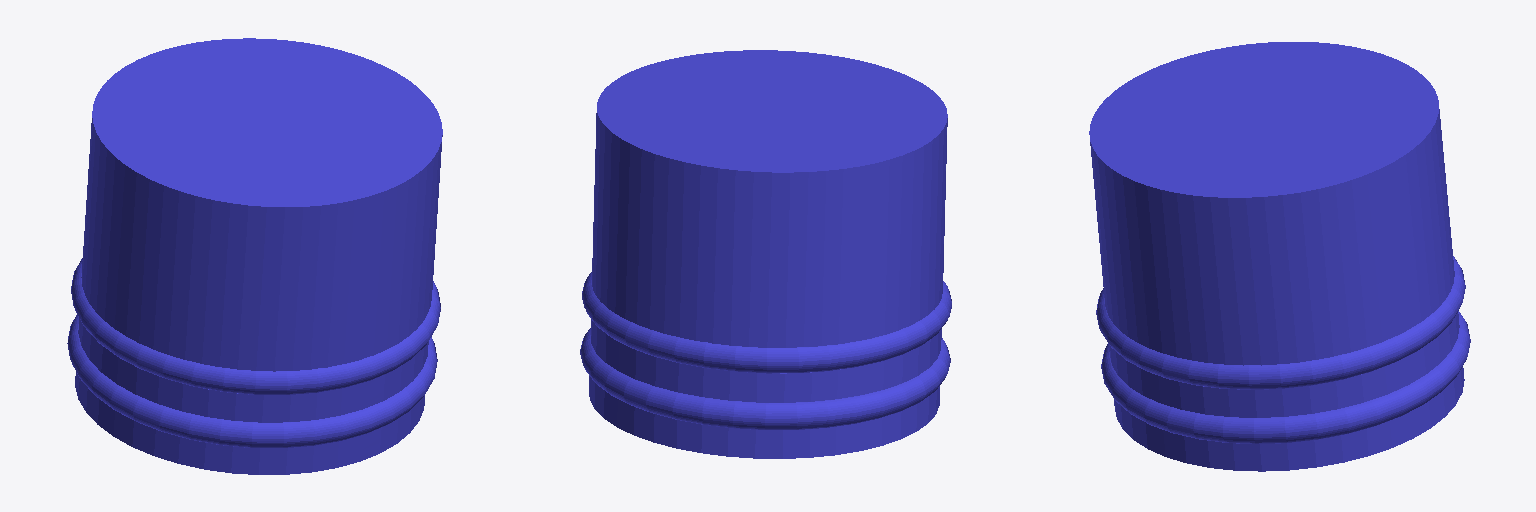
Rendered from bombilla207.obj.
3 views of the same model, side by side, from view 1: azimuth 30°, elevation 25°; view 2: azimuth 150°, elevation 25°; view 3: azimuth 270°, elevation 25° (orthographic).
Parts seen in each view (by area): view 1: Cylinder001, Cylinder004, Cylinder002, Cylinder003, Cylinder006; view 2: Cylinder001, Cylinder004, Cylinder003, Cylinder006, Cylinder002; view 3: Cylinder001, Cylinder004, Cylinder003, Cylinder002, Cylinder006.
Boxes of the visible parts, box(x1,y1,x2,y2) form: Cylinder001: box(81, 38, 442, 371); Cylinder004: box(67, 314, 437, 447); Cylinder002: box(71, 258, 440, 394); Cylinder003: box(78, 318, 428, 422); Cylinder006: box(75, 372, 424, 474); Cylinder001: box(592, 50, 947, 347); Cylinder004: box(580, 328, 950, 429); Cylinder003: box(591, 319, 941, 402); Cylinder006: box(589, 376, 939, 458); Cylinder002: box(582, 272, 951, 373); Cylinder001: box(1089, 42, 1454, 365); Cylinder004: box(1101, 311, 1470, 443); Cylinder003: box(1109, 313, 1459, 417); Cylinder002: box(1096, 256, 1465, 389); Cylinder006: box(1114, 367, 1464, 471).
Size of the model in its own units: 72.45 by 65.15 by 74.35.